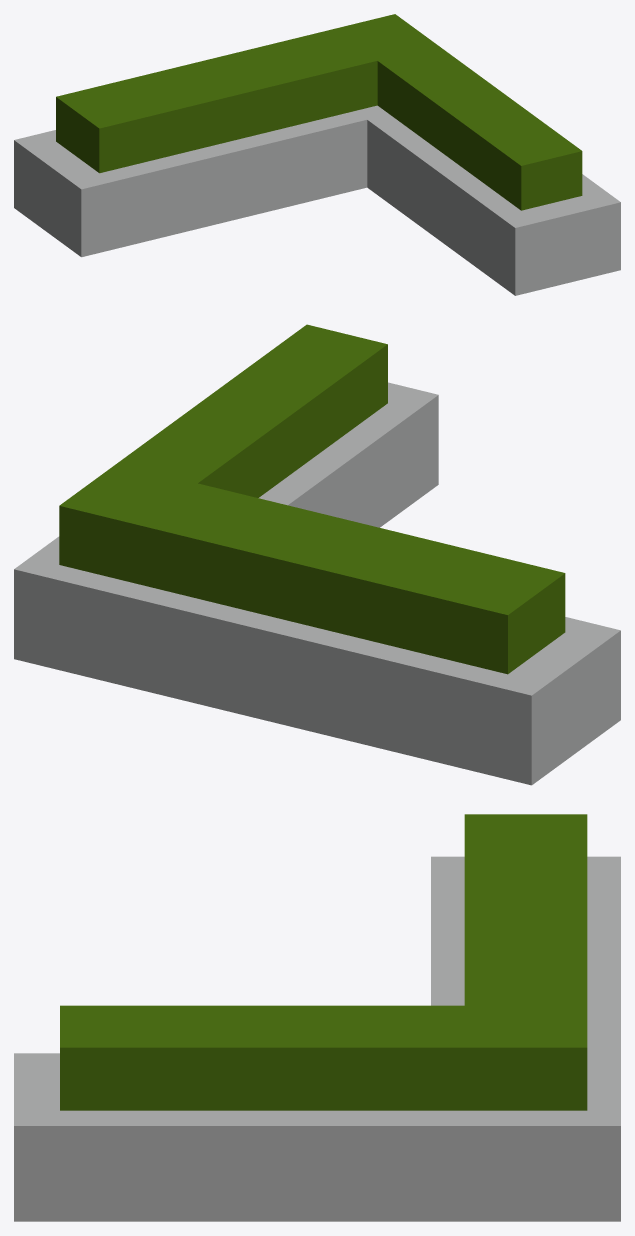
File: adorn plant3.FBX
3 views of the same model, one above another, from view 1: azimuth 30°, elevation 25°; view 2: azimuth 150°, elevation 25°; view 3: azimuth 270°, elevation 25° (orthographic). The views are drawn at different scales.
Parts seen in each view (by area): view 1: adorn plant3; view 2: adorn plant3; view 3: adorn plant3.
Part boxes in pixels (bbox=[...]): adorn plant3: bbox=[14, 14, 620, 295]; adorn plant3: bbox=[14, 324, 620, 785]; adorn plant3: bbox=[14, 814, 620, 1221].
Bounding box in the file's own units: 6.53 × 1.79 × 6.22.
